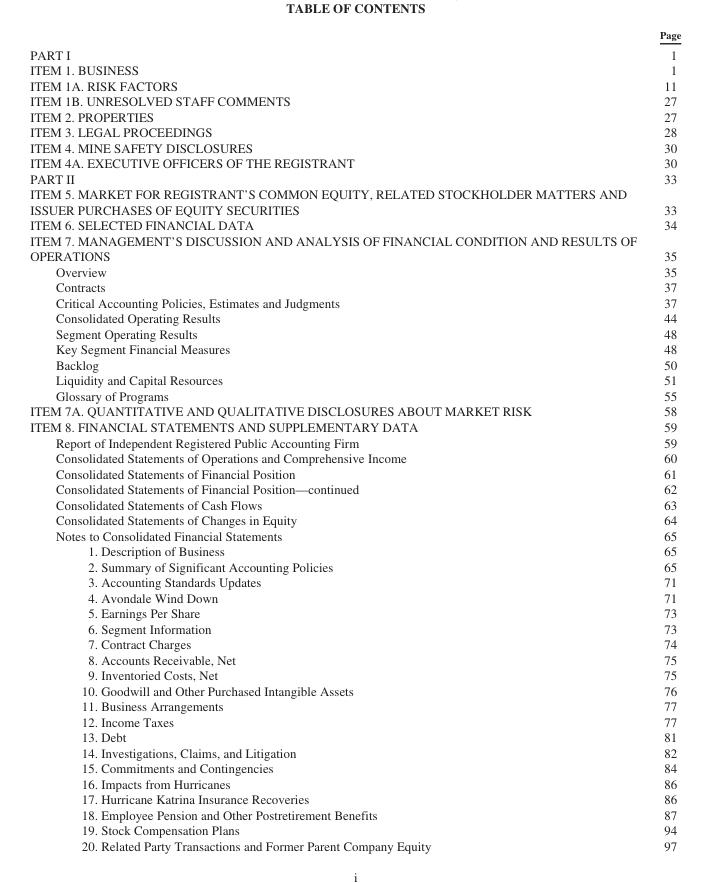table: (29, 28, 680, 852)
table column: (29, 28, 647, 852), (647, 28, 680, 852)
table column header: (29, 28, 680, 43)
table row: (29, 186, 680, 217), (29, 232, 680, 263), (29, 43, 680, 62), (29, 77, 680, 93), (29, 108, 680, 124), (29, 139, 680, 155), (29, 170, 680, 186), (29, 263, 680, 279), (29, 294, 680, 310), (29, 325, 680, 341), (29, 356, 680, 372), (29, 387, 680, 403), (29, 418, 680, 434), (29, 449, 680, 465), (29, 480, 680, 496), (29, 511, 680, 527), (29, 542, 680, 558), (29, 573, 680, 589), (29, 604, 680, 620), (29, 635, 680, 651), (29, 666, 680, 682), (29, 697, 680, 713), (29, 728, 680, 744), (29, 759, 680, 775), (29, 790, 680, 806), (29, 821, 680, 837), (29, 28, 680, 43), (29, 62, 680, 77), (29, 93, 680, 108), (29, 124, 680, 139), (29, 155, 680, 170), (29, 217, 680, 232), (29, 279, 680, 294), (29, 310, 680, 325), (29, 341, 680, 356), (29, 372, 680, 387), (29, 403, 680, 418), (29, 434, 680, 449), (29, 465, 680, 480), (29, 496, 680, 511), (29, 527, 680, 542), (29, 558, 680, 573), (29, 589, 680, 604), (29, 620, 680, 635), (29, 651, 680, 666), (29, 682, 680, 697), (29, 713, 680, 728), (29, 744, 680, 759), (29, 775, 680, 790), (29, 806, 680, 821), (29, 837, 680, 852)
